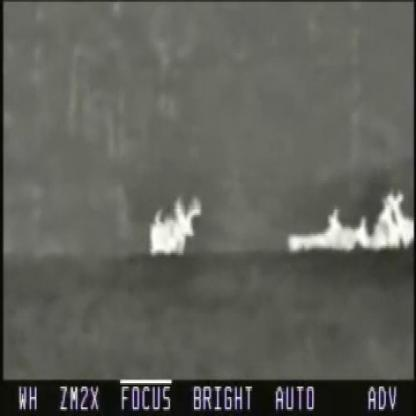rehkitze: (147, 195, 201, 263), (289, 211, 371, 254), (372, 192, 415, 256)
